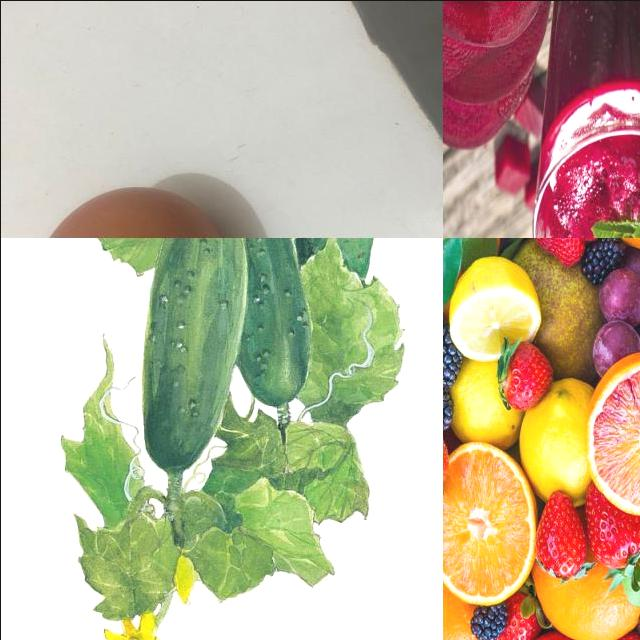beet: (443, 1, 555, 152)
cucumber: (144, 238, 254, 475), (226, 238, 312, 409), (296, 238, 381, 285)
egg: (28, 184, 238, 238)
